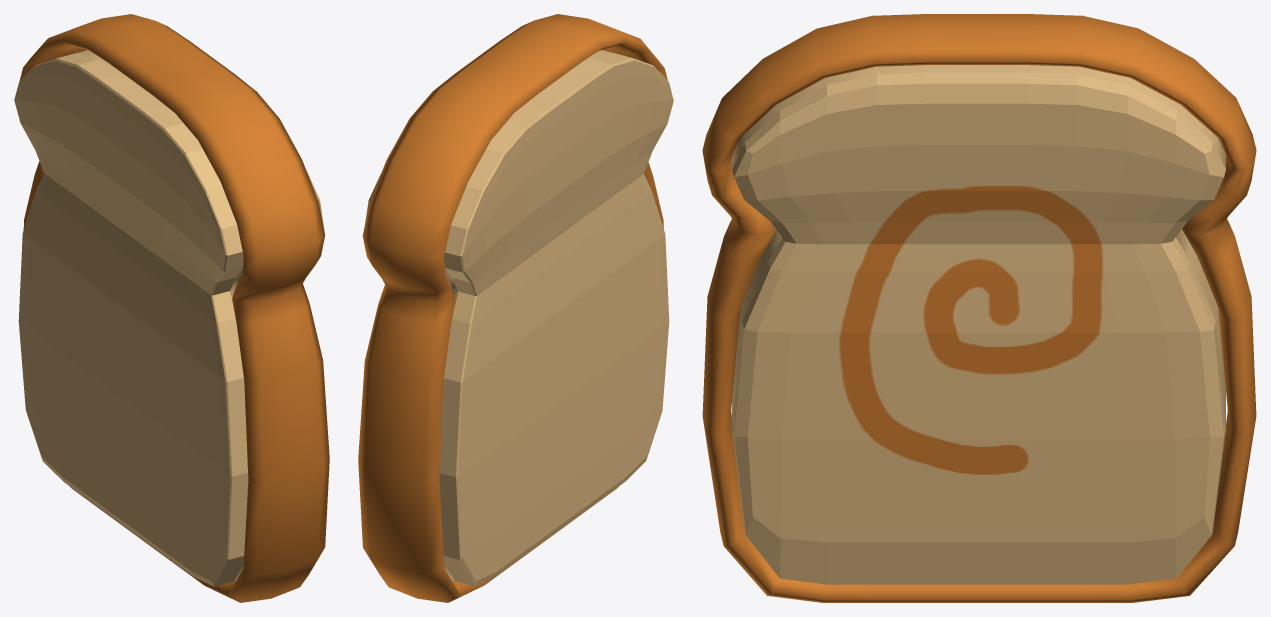
Rendered from breadswirlnotflat.fbx.
3 views of the same model, side by side, from view 1: azimuth 30°, elevation 25°; view 2: azimuth 150°, elevation 25°; view 3: azimuth 270°, elevation 25° (orthographic). The views are drawn at different scales.
Parts seen in each view (by area): view 1: bread, bread.001; view 2: bread, bread.001; view 3: bread, bread.001.
Boxes of the visible parts, x1,y1,x2,y2 form: bread: (14,50,324,586); bread.001: (19,14,329,602); bread: (364,50,673,586); bread.001: (358,14,667,602); bread: (732,65,1225,584); bread.001: (702,14,1256,602).
Bounding box in the file's own units: 62.06 × 259 × 233.
